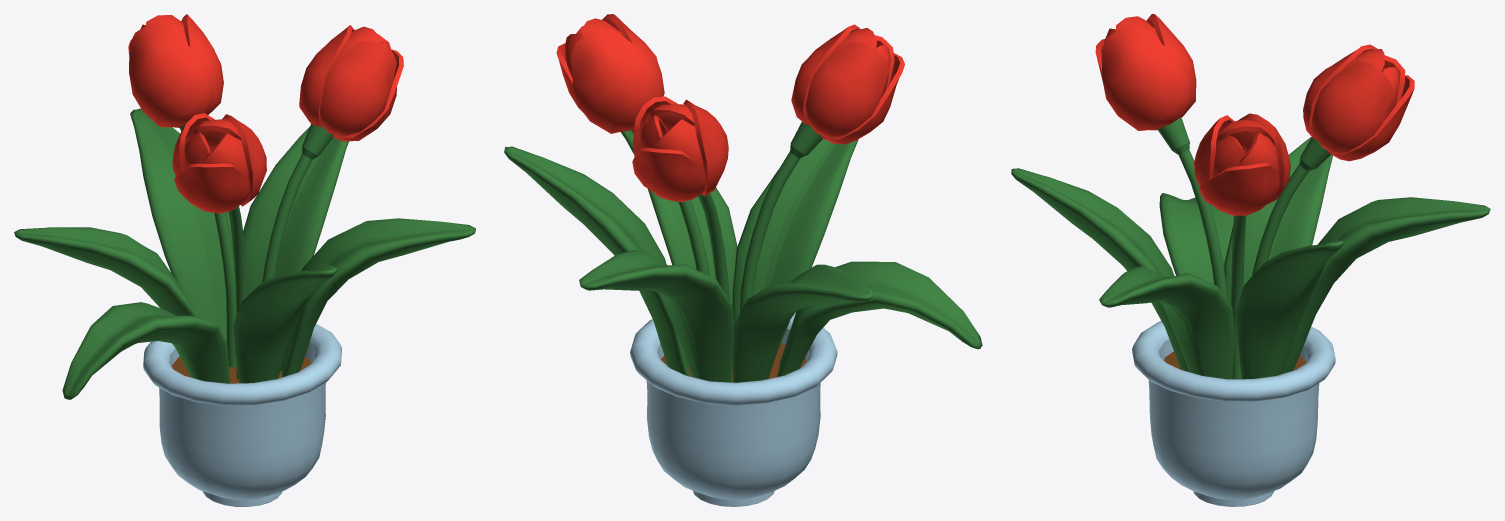
File: Flower_Pot.glb
3 views of the same model, side by side, from view 1: azimuth 30°, elevation 25°; view 2: azimuth 150°, elevation 25°; view 3: azimuth 270°, elevation 25° (orthographic). The views are drawn at different scales.
Parts seen in each view (by area): view 1: Plant13; view 2: Plant13; view 3: Plant13.
Part boxes in pixels (x1,y1,x2,y2): Plant13: (14,14,475,506); Plant13: (504,14,982,506); Plant13: (1011,14,1490,506).
Bounding box in the file's own units: 0.4643 × 0.497 × 0.4978.
Materials: 3 (2 with a texture image).
